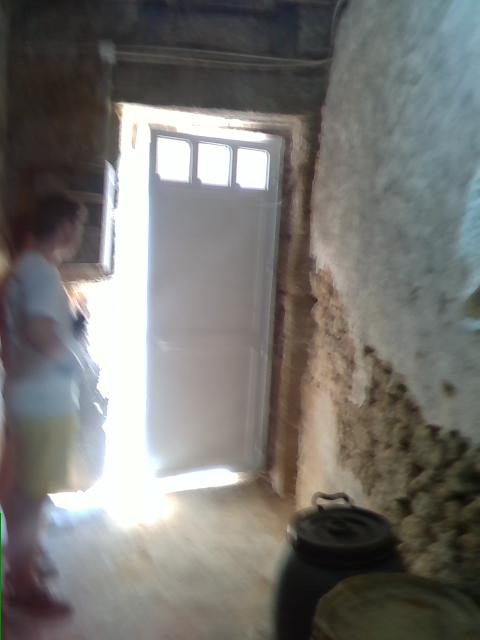door: (146, 124, 276, 472)
